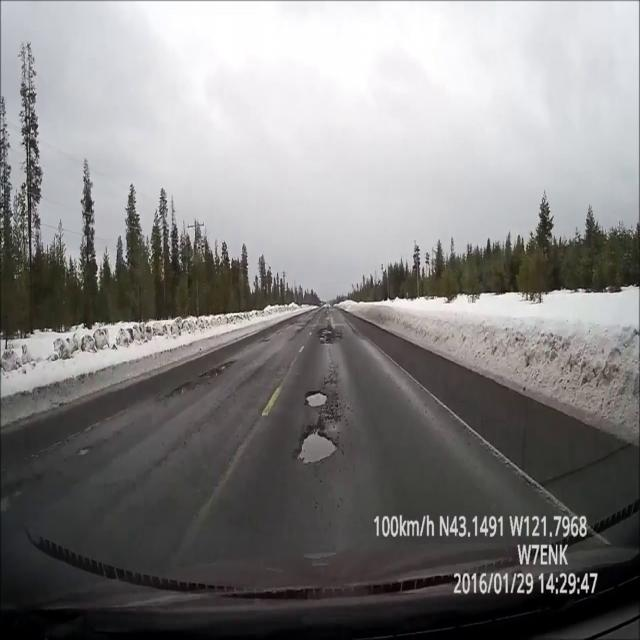Pothole: (295, 431, 340, 462), (198, 358, 238, 382), (168, 382, 201, 399), (304, 391, 330, 407), (317, 328, 339, 344), (324, 310, 331, 314), (325, 317, 331, 320)
